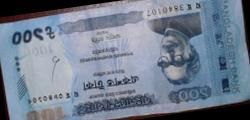100 taka: (6, 22, 244, 112)
